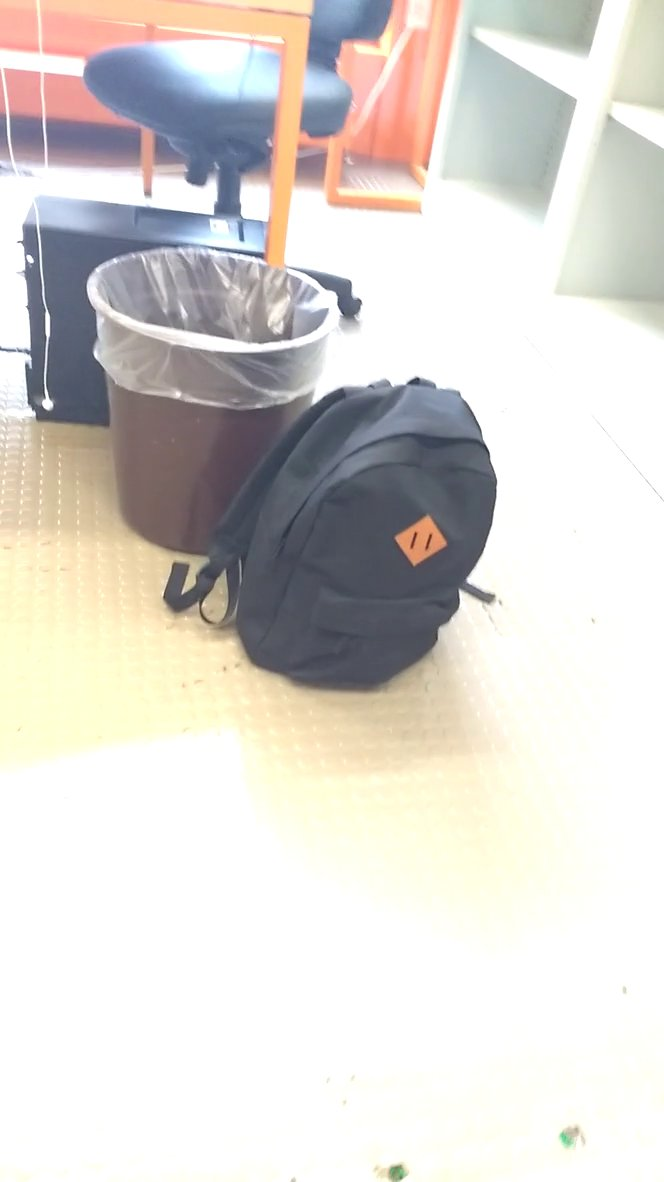bag: (159, 374, 505, 698)
bin: (75, 236, 346, 563)
chair: (76, 1, 404, 336)
